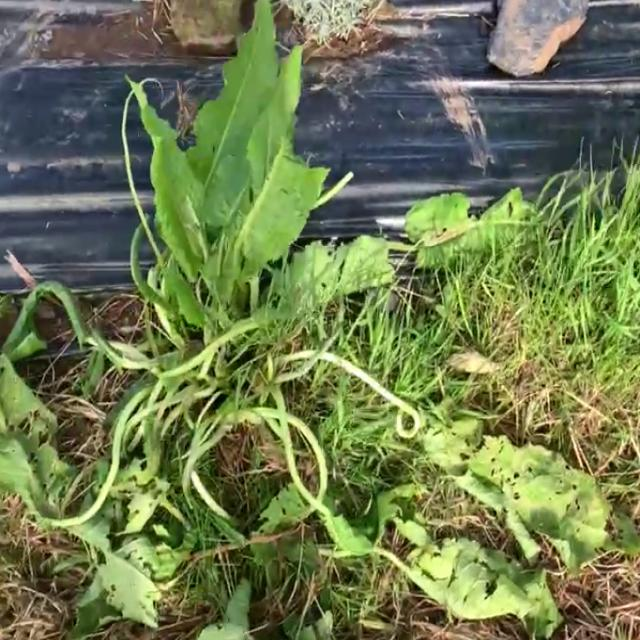organic waste: (33, 0, 408, 459), (281, 304, 640, 640), (0, 259, 227, 640), (114, 188, 360, 495)
